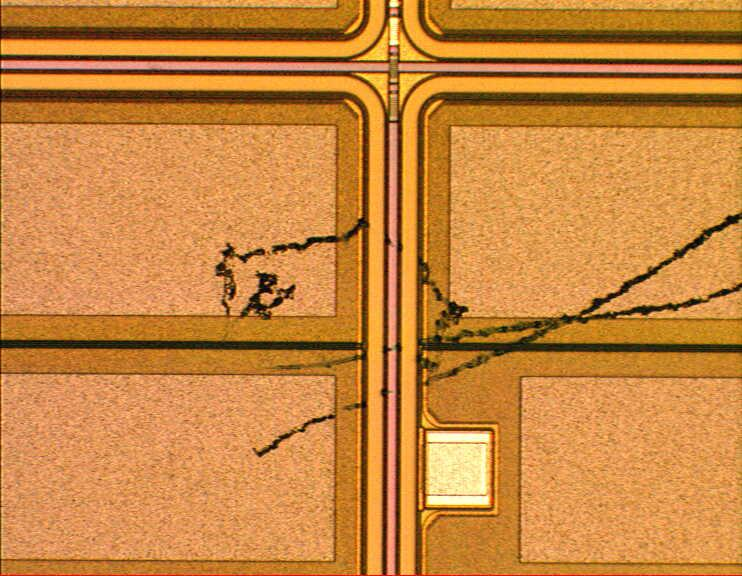SCRATCH: (200, 205, 742, 470)
